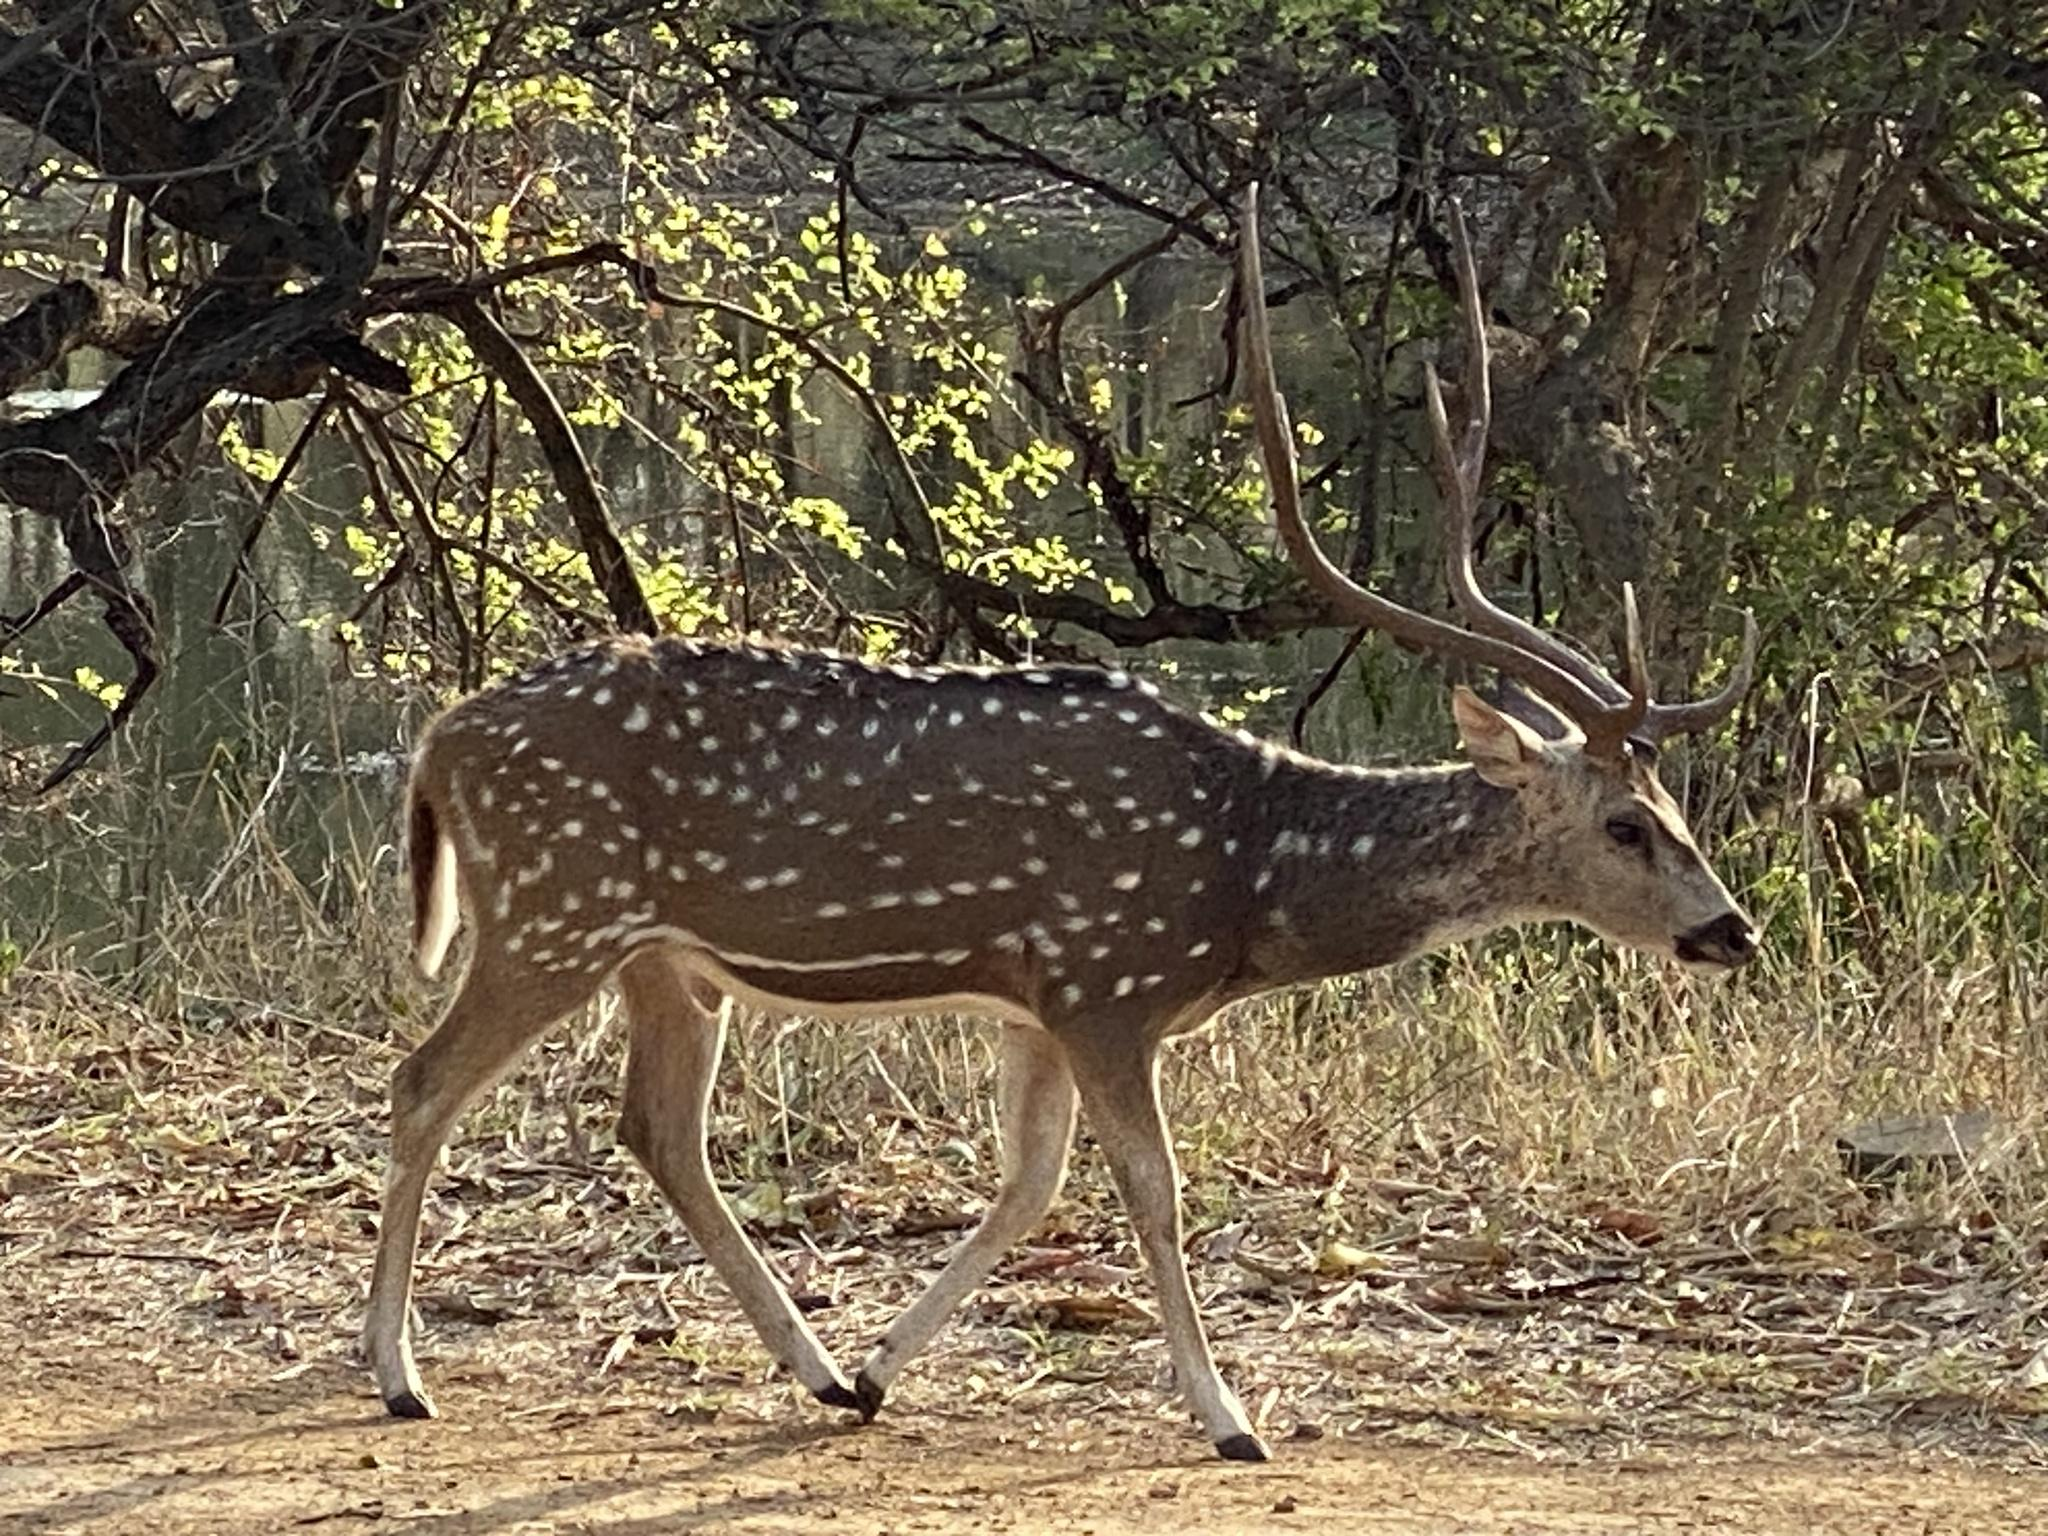Deer: (361, 192, 1755, 1459)
